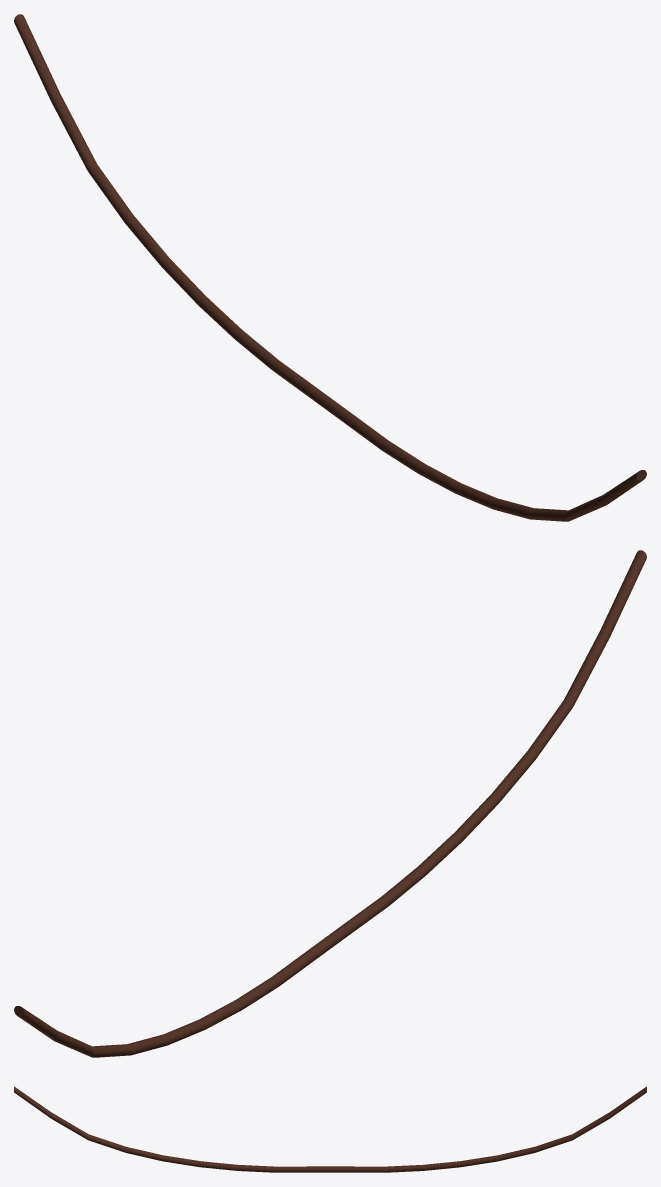
File: Curve wire.fbx
3 renders of one model, top to bottom at view 1: azimuth 30°, elevation 25°; view 2: azimuth 150°, elevation 25°; view 3: azimuth 270°, elevation 25°, orthographic. The views are drawn at different scales.
Visible parts, largest first — view 1: Wire; view 2: Wire; view 3: Wire.
Boxes of the visible parts, x1=… form: Wire: x1=14, y1=14, x2=646, y2=521; Wire: x1=14, y1=550, x2=646, y2=1057; Wire: x1=14, y1=1086, x2=646, y2=1172.
Bounding box in the file's own units: 65.56 × 1005 × 6712.
